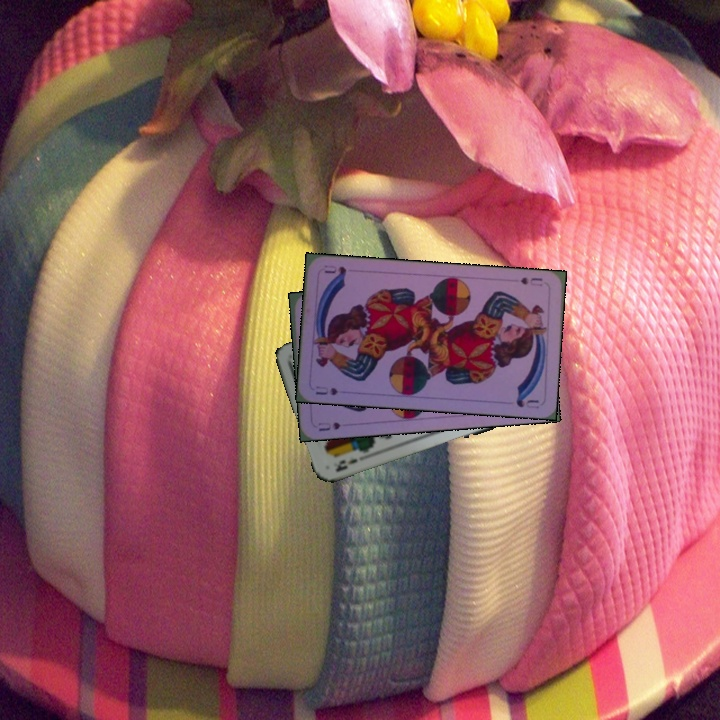EK: (331, 454, 360, 474)
SU: (314, 418, 343, 434), (517, 273, 545, 289), (311, 382, 340, 397)
